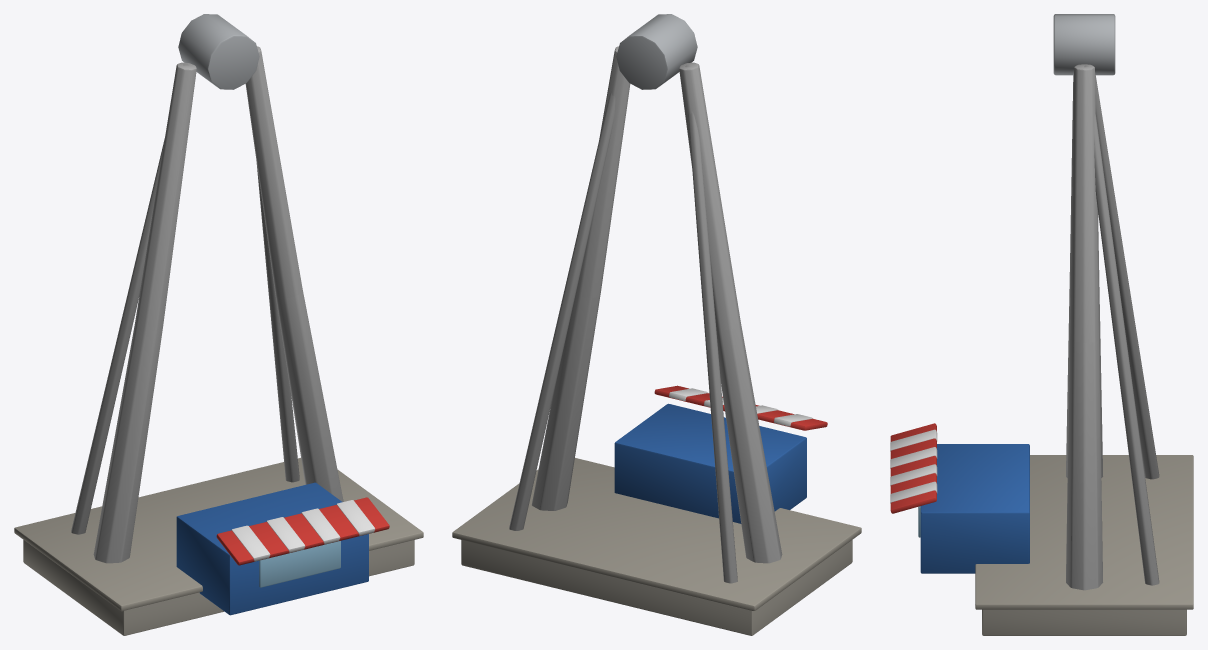
File: lm-wheelbase.glb
The picture shows the model from 3 angles, left to right: view 1: azimuth 30°, elevation 25°; view 2: azimuth 150°, elevation 25°; view 3: azimuth 270°, elevation 25°; orthographic projection.
Size of the model in its own units: 5.2 by 8.85 by 4.45.
